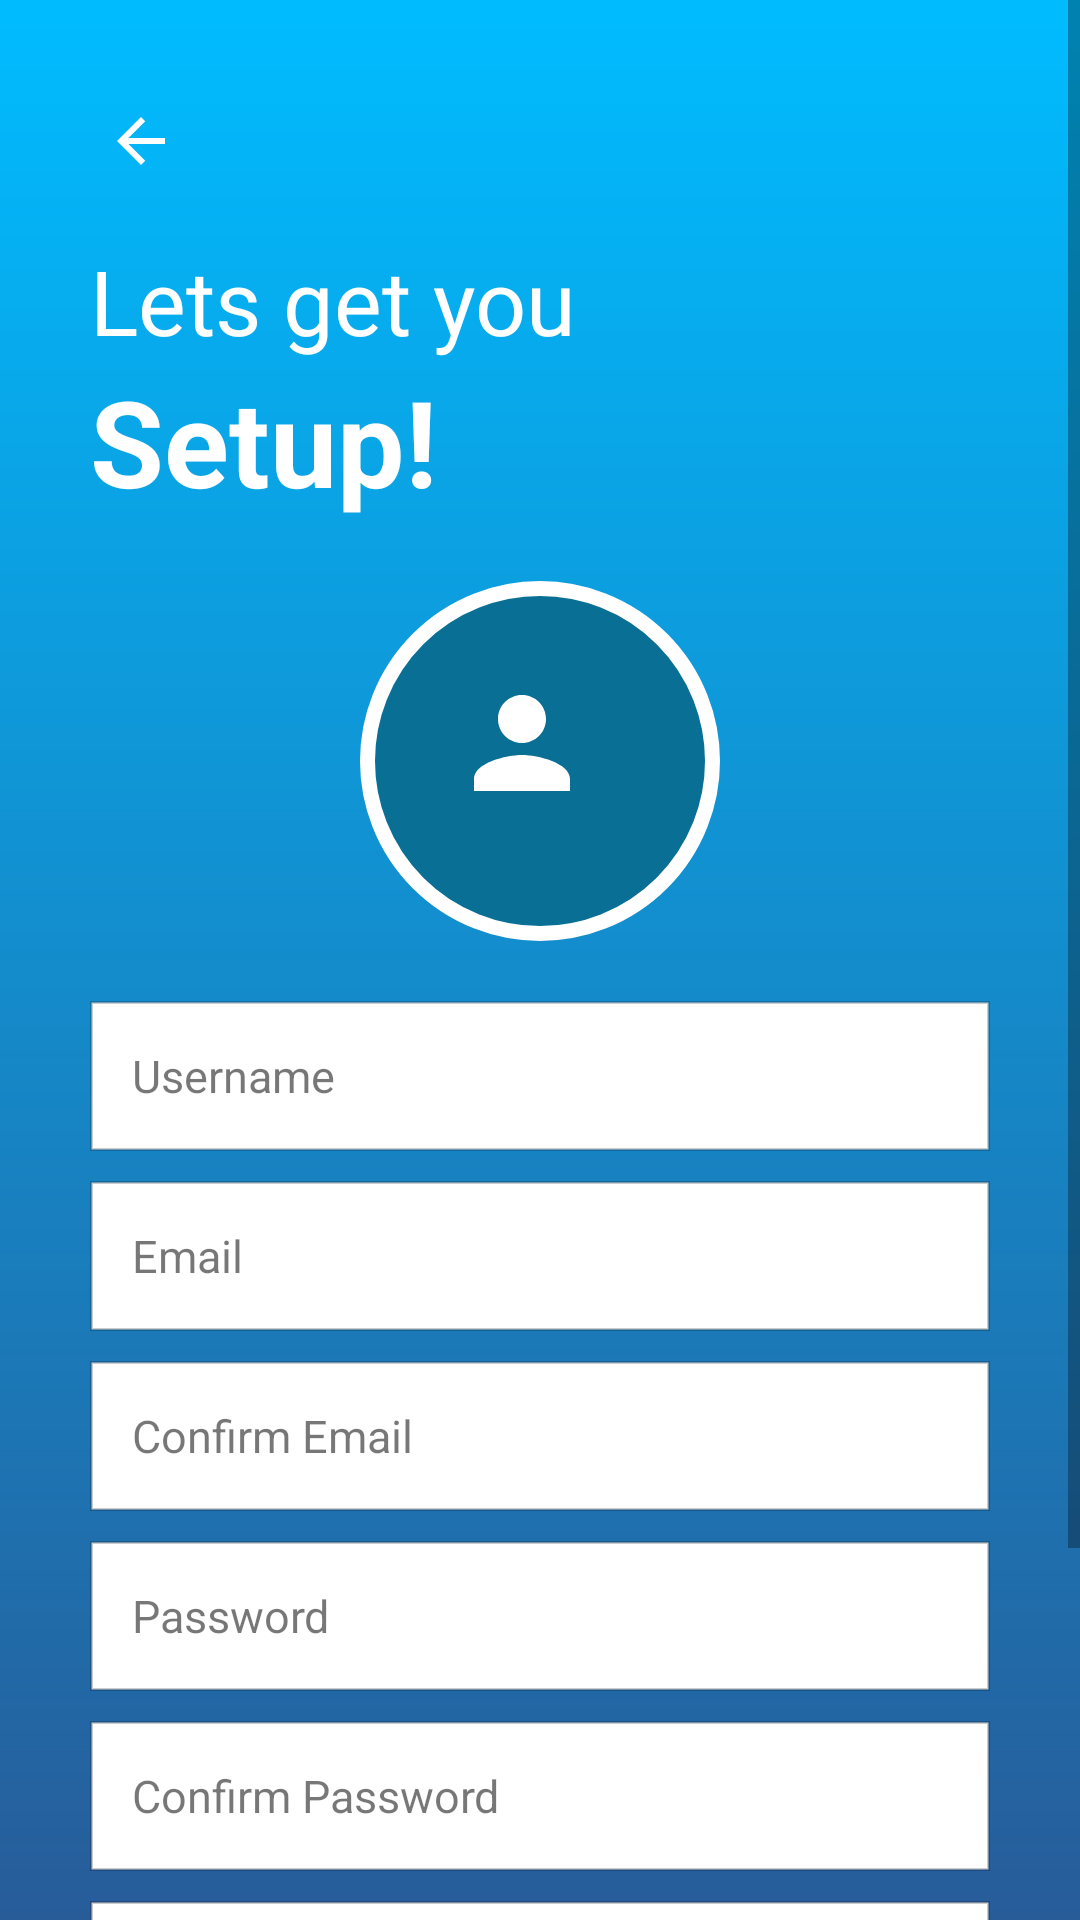

Locate icon controls on the screen. Image size 1080 x 1920, boxes as [x1,y1,x2,y2].
Back: [117,117,165,165]
